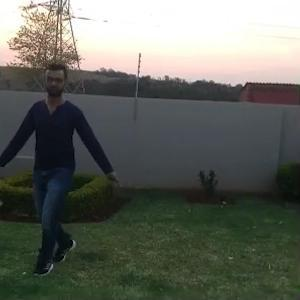land: (1, 64, 118, 260)
